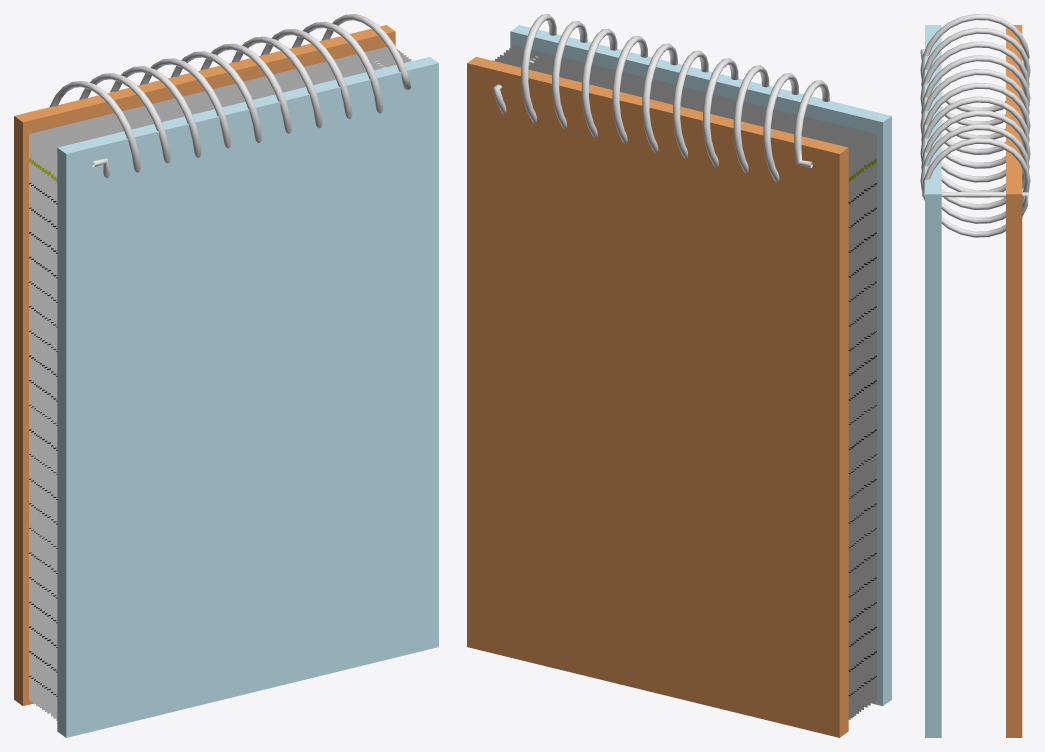
File: NOTEPAD 1.fbx
The picture shows the model from 3 angles, left to right: view 1: azimuth 30°, elevation 25°; view 2: azimuth 150°, elevation 25°; view 3: azimuth 270°, elevation 25°; orthographic projection. The views are drawn at different scales.
Visible parts, largest first — view 1: Cube, Spiral.001, Plane.008, Plane.007, Plane.005, Plane, Plane.006, Plane.001, Plane.004, Plane.002, Plane.003, Plane.009 (+2 smaller); view 2: Cube, Spiral.001, Plane.009, Plane.012, Plane.007, Plane.010, Plane.008, Plane.006, Plane.005, Plane.015, Plane.004, Plane.003 (+4 smaller); view 3: Cube, Spiral.001.
Part boxes in pixels (x1,y1,x2,y2): Cube: (14,25,438,737); Spiral.001: (49,14,411,178); Plane.008: (47,58,411,713); Plane.007: (44,57,408,711); Plane.005: (39,53,403,708); Plane: (29,46,388,700); Plane.006: (42,55,406,710); Plane.001: (31,49,389,702); Plane.004: (37,51,401,706); Plane.002: (34,49,397,704); Plane.003: (36,50,399,705); Plane.009: (51,148,57,716); Cube: (467,25,891,737); Spiral.001: (493,14,829,182); Plane.009: (503,52,867,707); Plane.012: (509,48,873,703); Plane.007: (497,56,861,711); Plane.010: (506,50,869,705); Plane.008: (500,55,863,710); Plane.006: (495,58,858,713); Plane.005: (492,60,856,715); Plane.015: (511,46,875,701); Plane.004: (848,149,854,717); Plane.003: (848,151,852,718); Cube: (925,25,1022,737); Spiral.001: (920,14,1030,237).
Size of the model in its own units: 98.34 by 27.03 by 157.
